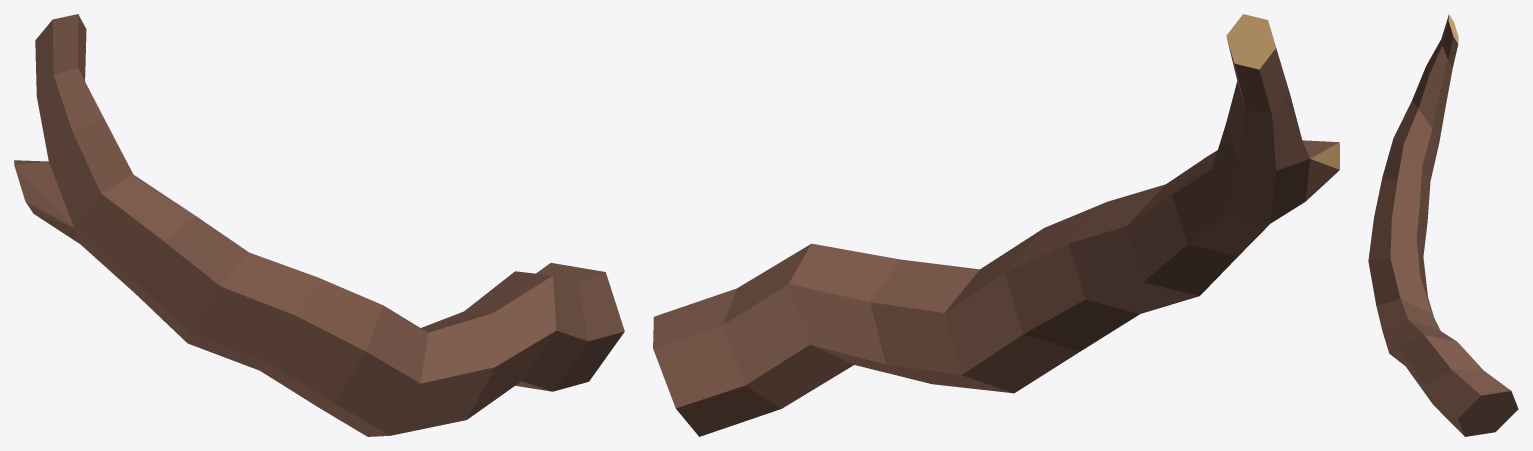
File: Snowman_arm.glb
3 renders of one model, left to right at view 1: azimuth 30°, elevation 25°; view 2: azimuth 150°, elevation 25°; view 3: azimuth 270°, elevation 25°, orthographic. The views are drawn at different scales.
Parts seen in each view (by area): view 1: group18611084; view 2: group18611084; view 3: group18611084.
Part boxes in pixels (x1,y1,x2,y2): group18611084: (14, 14, 624, 436); group18611084: (653, 14, 1339, 436); group18611084: (1368, 14, 1518, 436).
Bounding box in the file's own units: 0.2641 × 0.2027 × 0.0989.
